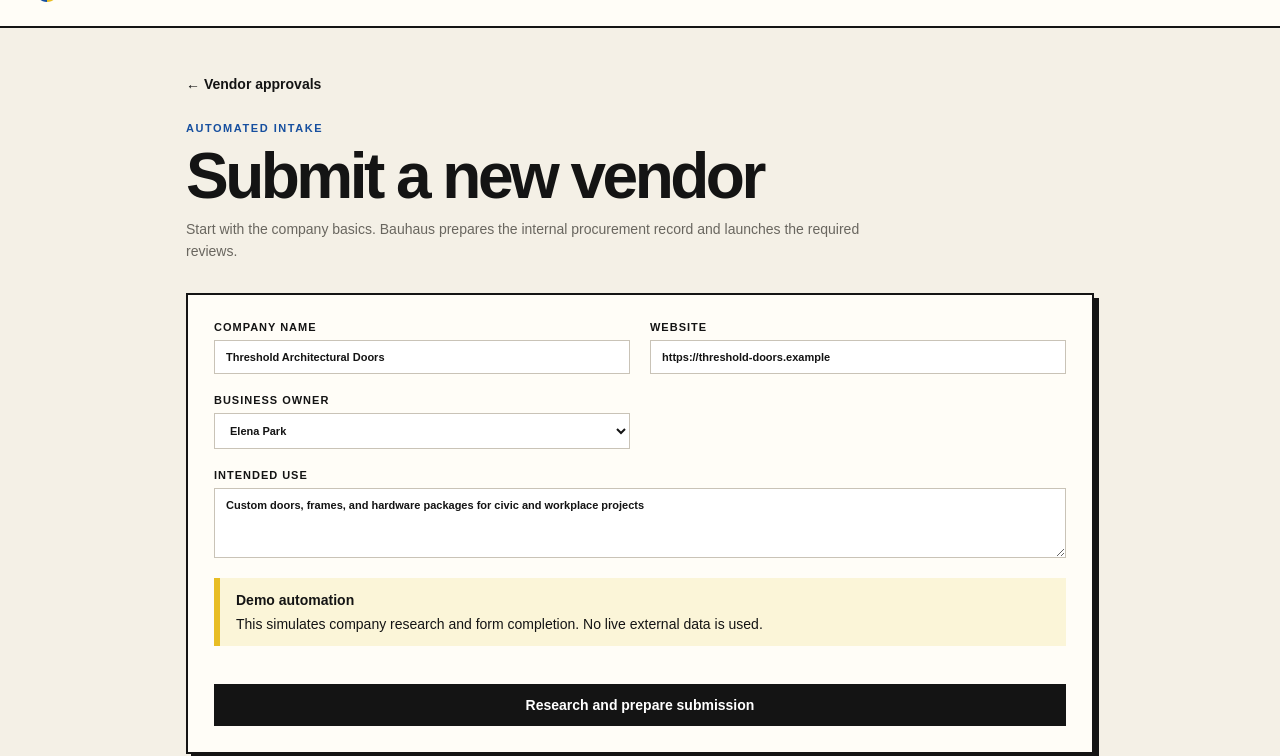
Test: runs automated intake and opens the review workspace
Click the button "Research and prepare submission": (640, 705) [214,684,1066,726]
(page scrolled)
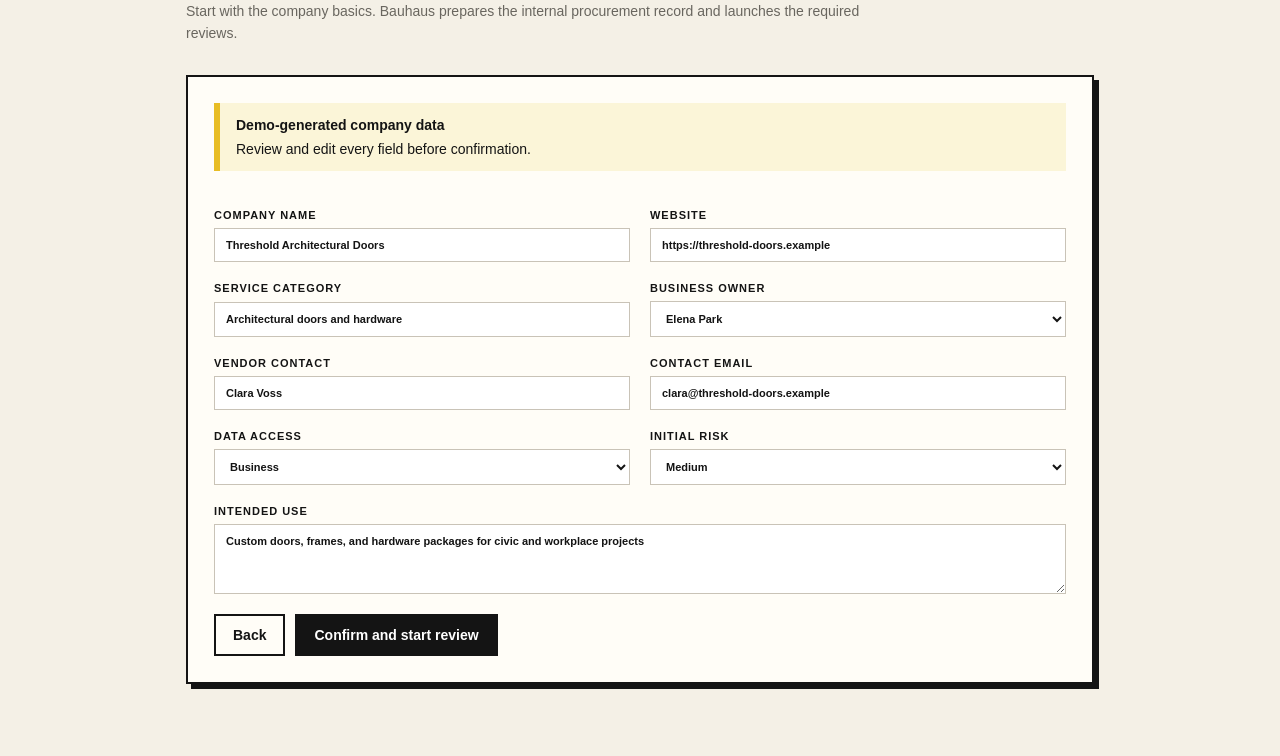
Check: the text "Demo-generated company data" is shown, box [236,117,444,133]
Click the button "Confirm and start review": (397, 635) [296,614,498,656]
(page scrolled)
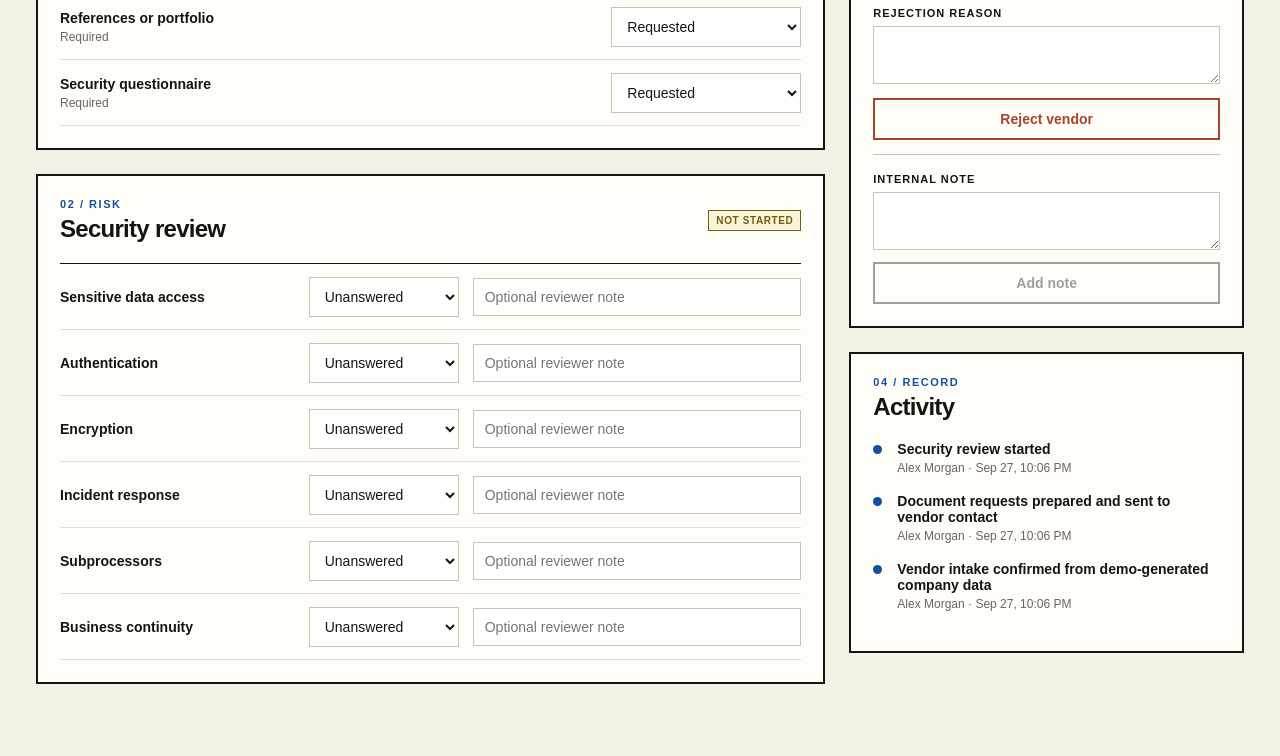
Check: the text "Security review started" is shown, box [897,441,1051,457]
